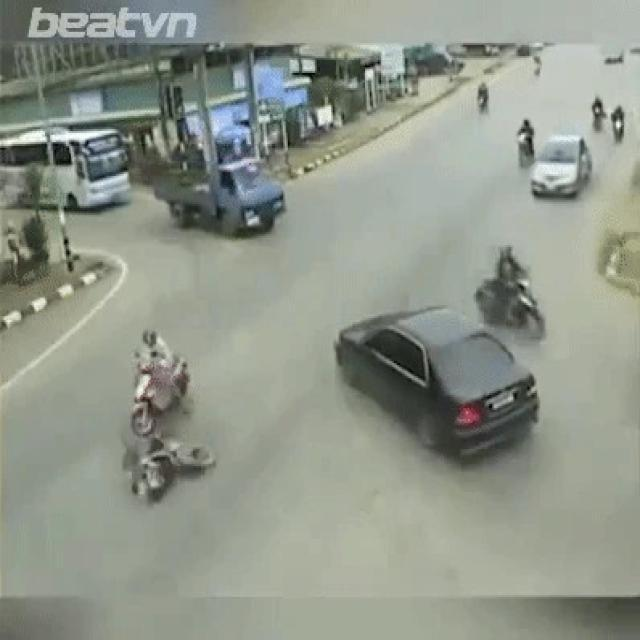multiple_accident: (119, 322, 225, 514)
normal: (319, 220, 576, 487), (146, 136, 291, 247), (0, 106, 133, 219), (507, 107, 601, 206)
